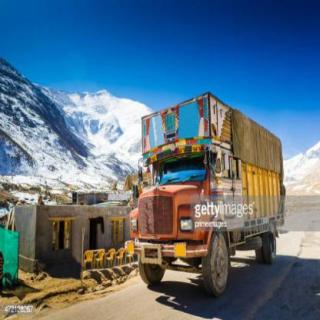Normal_vehicle: (132, 89, 286, 297)
